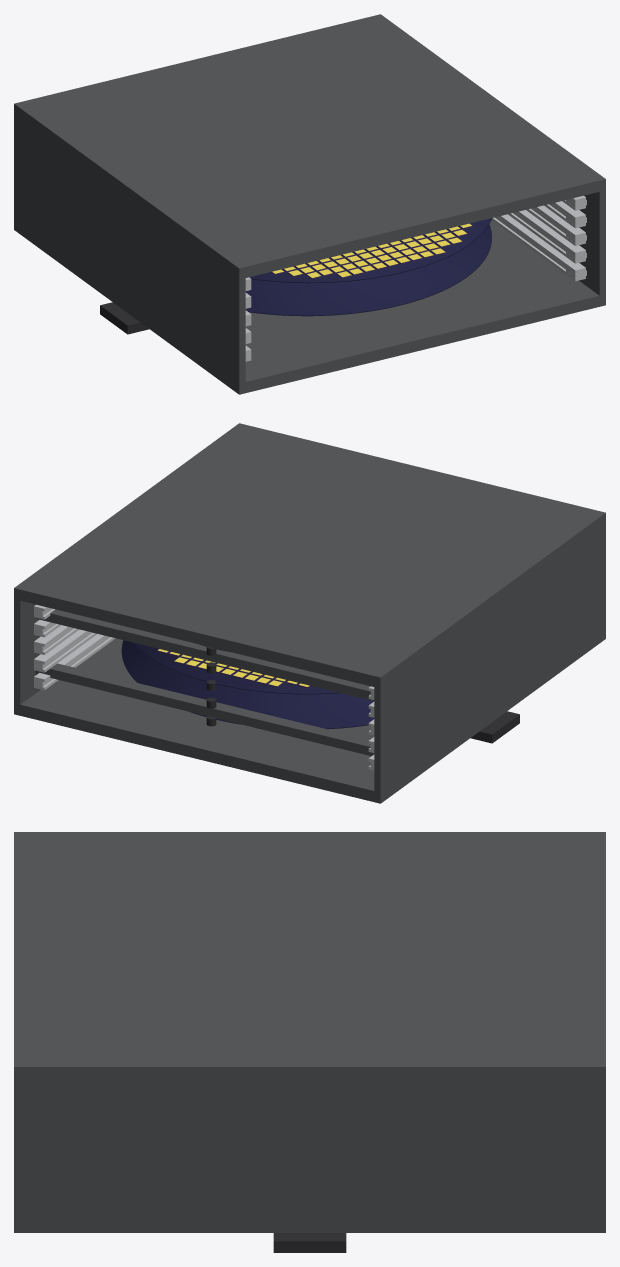
File: wafer_rack_module.glb
3 views of the same model, one above another, from view 1: azimuth 30°, elevation 25°; view 2: azimuth 150°, elevation 25°; view 3: azimuth 270°, elevation 25° (orthographic). The views are drawn at different scales.
Parts seen in each view (by area): view 1: Top_Cross_Bar, Left_Side_Frame, Bottom_Cross_Bar, WaferPlate_Reference_Slot01, Right_Side_Frame, Wafer, Right_Guide_Rail_mesh, Right_Guide_Rail_mesh.001, Right_Guide_Rail_mesh.002, Left_Mount, WaferPlate_Reference_Slot03, Right_Guide_Rail_mesh.003; view 2: Top_Cross_Bar, Left_Side_Frame, Bottom_Cross_Bar, Rear_Cross_Bars, WaferPlate_Reference_Slot01, Right_Side_Frame, Wafer, WaferPlate_Reference_Slot03, Right_Guide_Rail_mesh, Right_Guide_Rail_mesh.001, Left_Mount, Right_Guide_Rail_mesh.002; view 3: Top_Cross_Bar, Right_Side_Frame, Left_Side_Frame, Right_Mount.
Part boxes in pixels (bbox=[...]): Top_Cross_Bar: bbox=[21, 16, 599, 277]; Left_Side_Frame: bbox=[14, 102, 245, 394]; Bottom_Cross_Bar: bbox=[245, 220, 599, 392]; WaferPlate_Reference_Slot01: bbox=[245, 224, 491, 316]; Right_Side_Frame: bbox=[374, 14, 605, 306]; Wafer: bbox=[249, 218, 492, 283]; Right_Guide_Rail_mesh: bbox=[492, 214, 585, 281]; Right_Guide_Rail_mesh.001: bbox=[508, 210, 585, 263]; Right_Guide_Rail_mesh.002: bbox=[526, 205, 585, 245]; Left_Mount: bbox=[100, 302, 149, 334]; WaferPlate_Reference_Slot03: bbox=[256, 232, 477, 279]; Right_Guide_Rail_mesh.003: bbox=[544, 201, 585, 228]; Top_Cross_Bar: bbox=[20, 425, 598, 686]; Left_Side_Frame: bbox=[374, 511, 605, 803]; Bottom_Cross_Bar: bbox=[20, 638, 374, 801]; Rear_Cross_Bars: bbox=[35, 609, 374, 755]; WaferPlate_Reference_Slot01: bbox=[121, 640, 374, 729]; Right_Side_Frame: bbox=[14, 423, 245, 715]; Wafer: bbox=[140, 644, 330, 691]; WaferPlate_Reference_Slot03: bbox=[133, 642, 339, 694]; Right_Guide_Rail_mesh: bbox=[34, 634, 115, 690]; Right_Guide_Rail_mesh.001: bbox=[34, 629, 97, 672]; Left_Mount: bbox=[470, 711, 519, 743]; Right_Guide_Rail_mesh.002: bbox=[34, 625, 79, 654]; Top_Cross_Bar: bbox=[14, 836, 605, 1062]; Right_Side_Frame: bbox=[14, 1063, 605, 1232]; Left_Side_Frame: bbox=[14, 832, 605, 835]; Right_Mount: bbox=[273, 1233, 346, 1252].
Bounding box in the file's own units: 0.367 × 0.1208 × 0.365.
